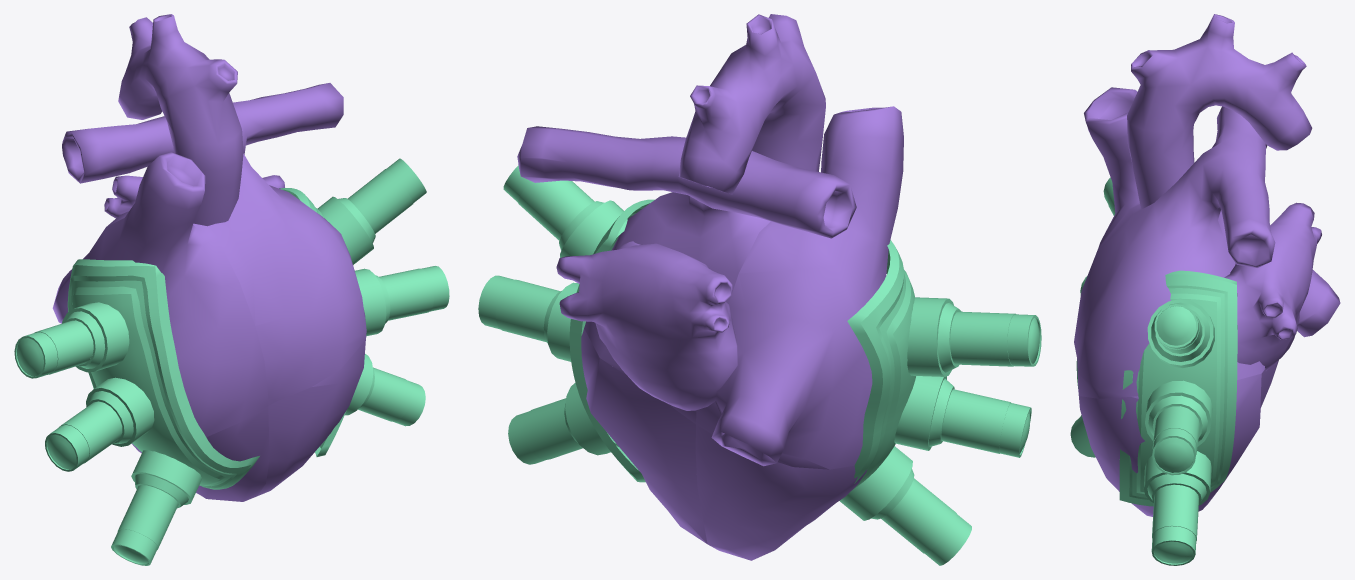
File: CorazónCortadoFinal2.fbx
The picture shows the model from 3 angles, left to right: view 1: azimuth 30°, elevation 25°; view 2: azimuth 150°, elevation 25°; view 3: azimuth 270°, elevation 25°; orthographic projection. The views are drawn at different scales.
Visible parts, largest first — view 1: AuriculaDR, AuriculaIZ, Aorta, placa_02_low, VentriculoDR, VentriculoIZ, pistonMov001_low, pistonMov002_low, pistonMov000_low, pistonMov005_low, pistonMov004_low, Piston004_low (+8 smaller); view 2: AuriculaIZ, AuriculaDR, VenasPulmonares, Aorta, VentriculoIZ, VentriculoDR, placa_02_low, pistonMov000_low, pistonMov001_low, pistonMov002_low, pistonMov004_low, Piston004_low (+8 smaller); view 3: AuriculaDR, Aorta, placa_01_low, VenasPulmonares, VentriculoDR, AuriculaIZ, pistonMov003_low, pistonMov004_low, Piston001_low, Piston000_low, pistonMov005_low, Piston002_low (+1 smaller).
Part boxes in pixels (bbox=[...]): AuriculaDR: bbox=[62, 83, 366, 405]; AuriculaIZ: bbox=[52, 152, 268, 436]; Aorta: bbox=[118, 14, 243, 226]; placa_02_low: bbox=[67, 259, 259, 489]; VentriculoDR: bbox=[257, 340, 365, 495]; VentriculoIZ: bbox=[131, 406, 269, 501]; pistonMov001_low: bbox=[45, 401, 122, 471]; pistonMov002_low: bbox=[111, 485, 178, 565]; pistonMov000_low: bbox=[14, 320, 93, 378]; pistonMov005_low: bbox=[347, 158, 426, 233]; pistonMov004_low: bbox=[379, 266, 449, 320]; Piston004_low: bbox=[62, 302, 129, 372]; AuriculaIZ: bbox=[696, 106, 903, 469]; AuriculaDR: bbox=[517, 126, 856, 423]; VenasPulmonares: bbox=[556, 241, 737, 410]; Aorta: bbox=[678, 14, 825, 194]; VentriculoIZ: bbox=[695, 424, 866, 560]; VentriculoDR: bbox=[581, 328, 707, 543]; placa_02_low: bbox=[847, 240, 915, 489]; pistonMov000_low: bbox=[950, 311, 1041, 366]; pistonMov001_low: bbox=[941, 389, 1031, 457]; pistonMov002_low: bbox=[881, 478, 971, 565]; pistonMov004_low: bbox=[478, 275, 560, 342]; Piston004_low: bbox=[907, 297, 961, 376]; AuriculaDR: bbox=[1074, 106, 1275, 398]; Aorta: bbox=[1127, 14, 1312, 209]; placa_01_low: bbox=[1119, 270, 1237, 506]; VenasPulmonares: bbox=[1224, 202, 1321, 370]; VentriculoDR: bbox=[1078, 361, 1277, 516]; AuriculaIZ: bbox=[1084, 87, 1340, 337]; pistonMov003_low: bbox=[1151, 484, 1198, 565]; pistonMov004_low: bbox=[1152, 406, 1199, 475]; Piston001_low: bbox=[1145, 380, 1212, 446]; Piston000_low: bbox=[1147, 299, 1214, 367]; pistonMov005_low: bbox=[1154, 304, 1202, 353]; Piston002_low: bbox=[1144, 451, 1211, 505].
Size of the model in its own units: 397 by 416 by 210.
